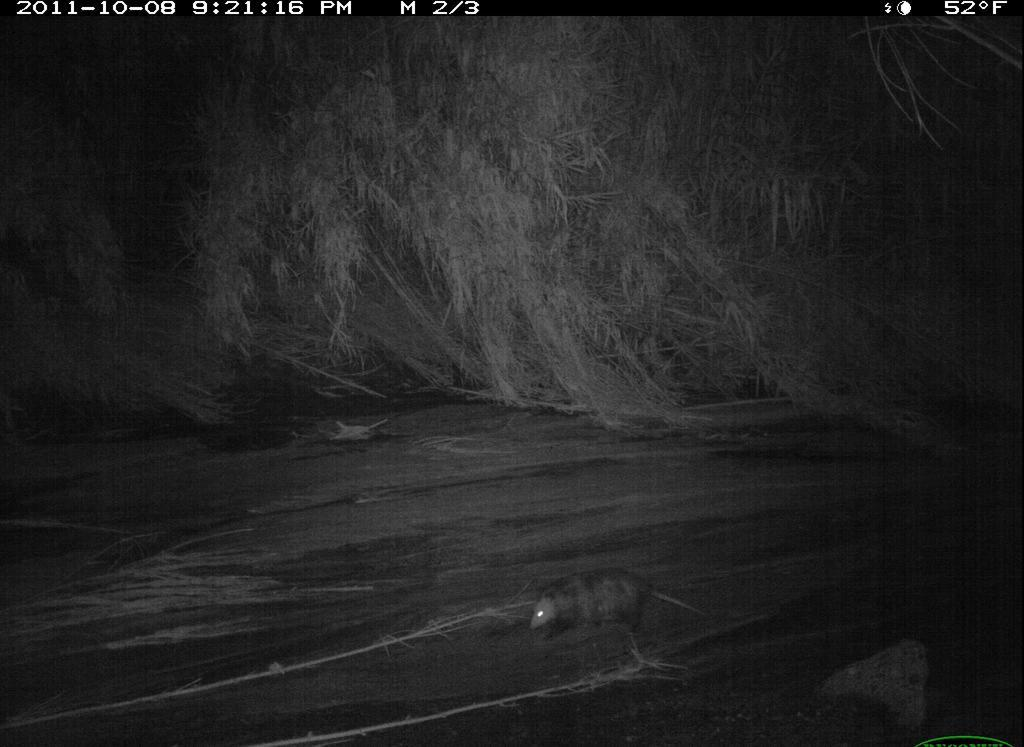opossum: (519, 564, 720, 651)
